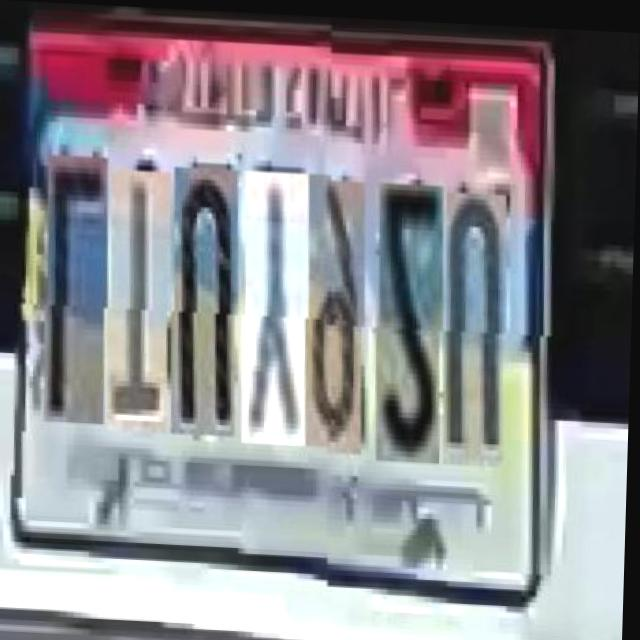2: (378, 174, 454, 454)
9: (307, 171, 376, 446)
l: (46, 155, 118, 423)
t: (110, 169, 182, 432)
u: (173, 165, 249, 434), (444, 182, 517, 457)
y: (243, 168, 319, 443)
